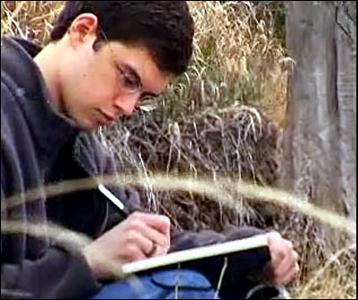person: (2, 2, 299, 299)
